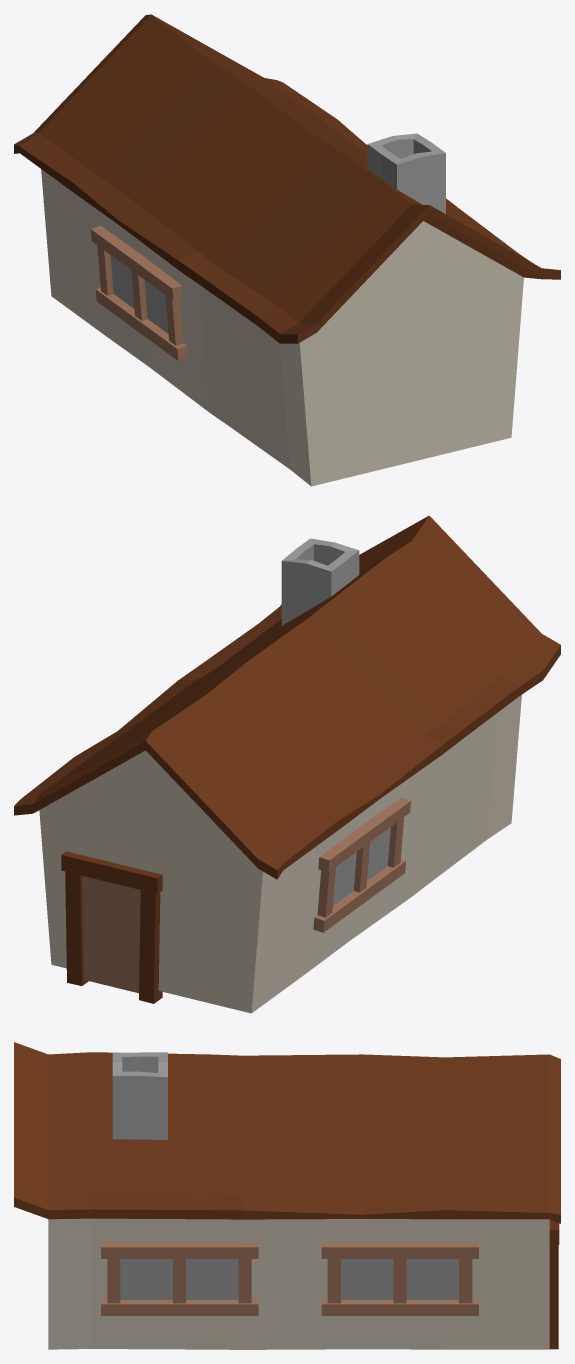
The model's file is house1.fbx.
3 renders of one model, top to bottom at view 1: azimuth 30°, elevation 25°; view 2: azimuth 150°, elevation 25°; view 3: azimuth 270°, elevation 25°, orthographic. The views are drawn at different scales.
Parts seen in each view (by area): view 1: Cube, Cube.001, Cube.019, Cube.020, Plane.002, Cube.017, Cube.016, Cube.018; view 2: Cube, Cube.002, Cube.001, Cube.004, Cube.005, Cube.019, Cube.003, Cube.020, Plane.002, Cube.018; view 3: Cube, Cube.001, Plane, Plane.001, Cube.014, Cube.009, Cube.010, Cube.015, Cube.003, Cube.011, Cube.007, Cube.008 (+3 smaller).
Boxes of the visible parts, x1=… form: Cube: x1=14, y1=14, x2=560, y2=486; Cube.001: x1=367, y1=133, x2=445, y2=213; Cube.019: x1=90, y1=225, x2=183, y2=300; Cube.020: x1=95, y1=287, x2=187, y2=360; Plane.002: x1=110, y1=255, x2=168, y2=333; Cube.017: x1=165, y1=295, x2=183, y2=345; Cube.016: x1=131, y1=270, x2=147, y2=320; Cube.018: x1=97, y1=245, x2=113, y2=295; Cube: x1=14, y1=515, x2=560, y2=1013; Cube.002: x1=82, y1=876, x2=140, y2=993; Cube.001: x1=281, y1=538, x2=359, y2=625; Cube.004: x1=139, y1=890, x2=162, y2=1003; Cube.005: x1=61, y1=851, x2=162, y2=893; Cube.019: x1=318, y1=797, x2=410, y2=872; Cube.003: x1=65, y1=871, x2=88, y2=985; Cube.020: x1=313, y1=859, x2=405, y2=932; Plane.002: x1=333, y1=827, x2=390, y2=905; Cube.018: x1=317, y1=867, x2=335, y2=917; Cube: x1=14, y1=1042, x2=560, y2=1349; Cube.001: x1=112, y1=1052, x2=167, y2=1139; Plane: x1=120, y1=1259, x2=238, y2=1299; Plane.001: x1=341, y1=1259, x2=458, y2=1299; Cube.014: x1=321, y1=1242, x2=478, y2=1258; Cube.009: x1=101, y1=1241, x2=258, y2=1258; Cube.010: x1=101, y1=1298, x2=258, y2=1315; Cube.015: x1=321, y1=1299, x2=478, y2=1315; Cube.003: x1=549, y1=1245, x2=558, y2=1349; Cube.011: x1=393, y1=1259, x2=406, y2=1303; Cube.007: x1=238, y1=1259, x2=251, y2=1303; Cube.008: x1=107, y1=1259, x2=120, y2=1303.
Size of the model in its own units: 353 by 357 by 655.
